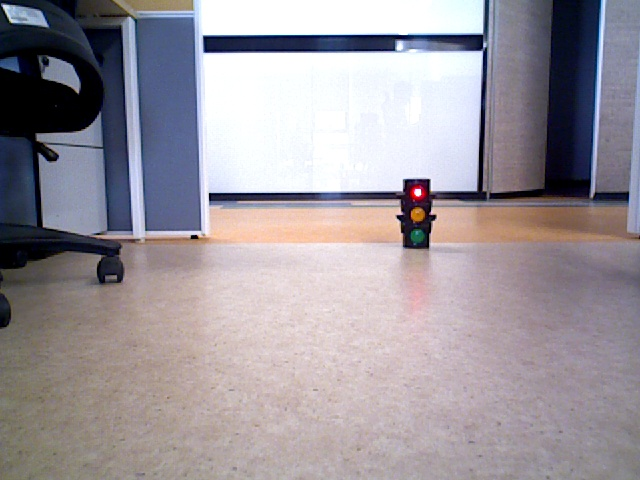red: (404, 177, 430, 243)
